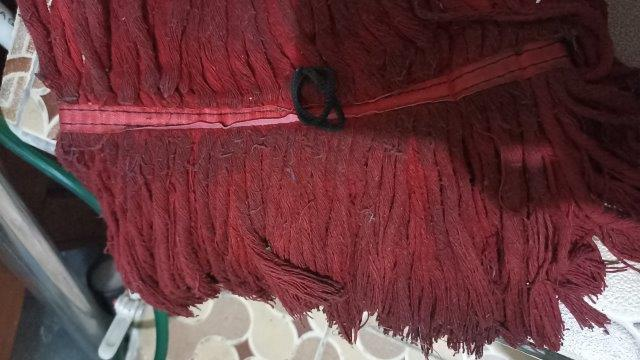karet: (292, 67, 345, 132)
